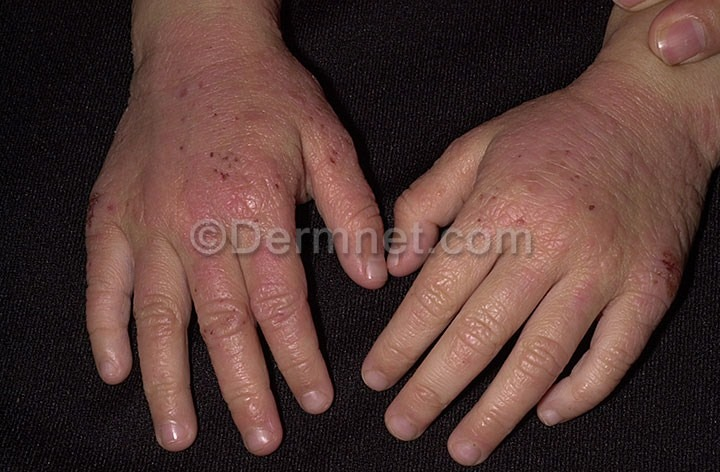Eczema: (78, 2, 383, 325), (463, 77, 720, 312), (408, 138, 458, 236)
